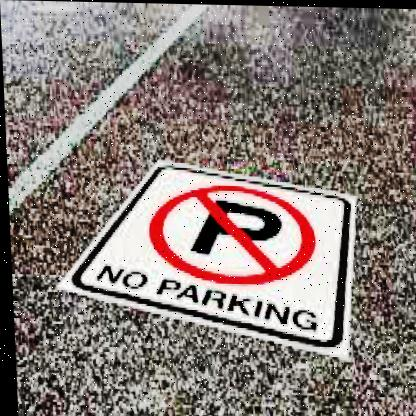No parking: (150, 169, 314, 294)
